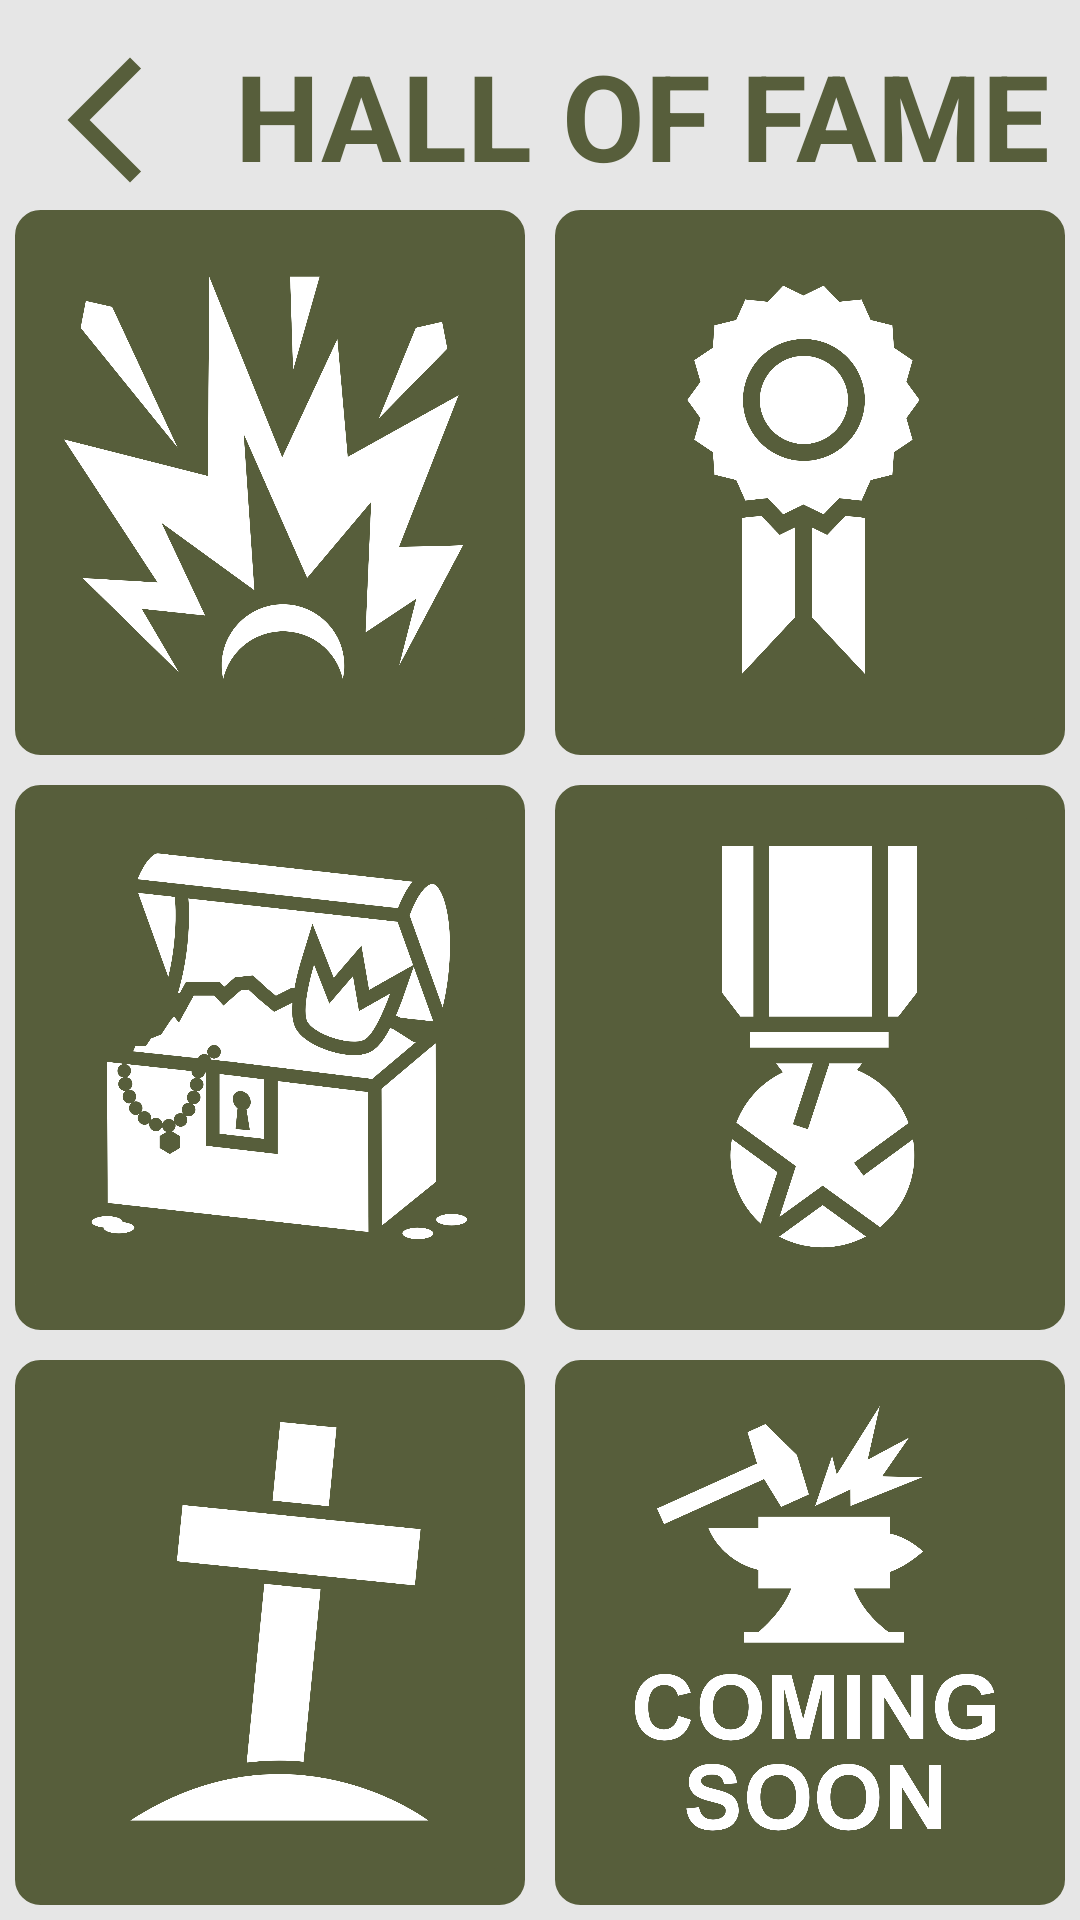

Named icons in this screenshot (1080 × 1920) and their bounding boxes, (x1, y1, x2, y2):
Go back: (68, 58, 141, 182)
